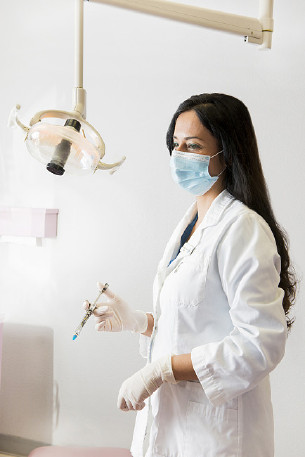face_mask: (171, 111, 215, 193)
